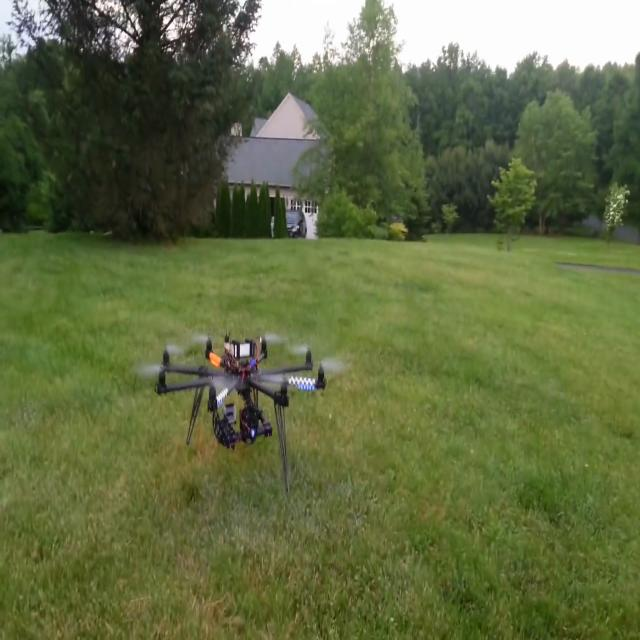drone: (144, 313, 336, 491)
